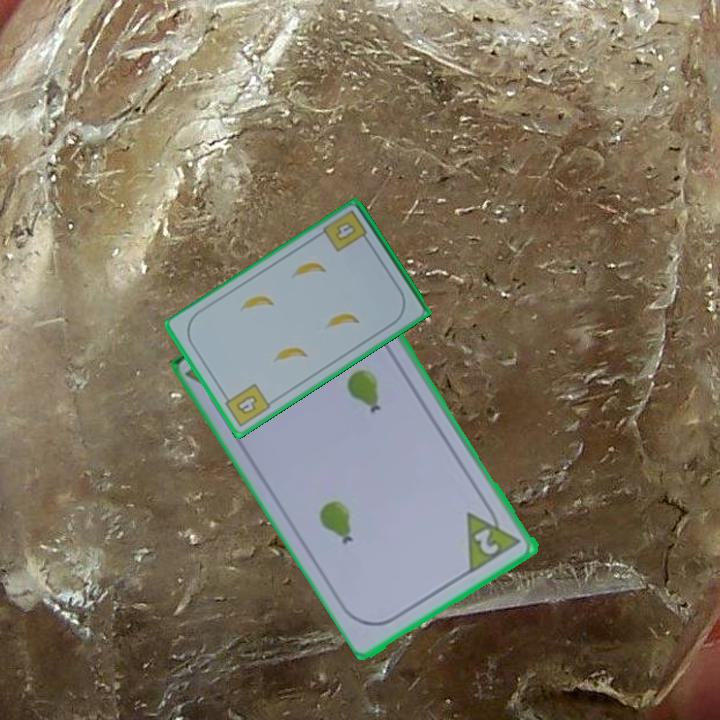2p: (463, 498, 525, 576)
4b: (219, 380, 273, 430), (321, 206, 373, 255)
